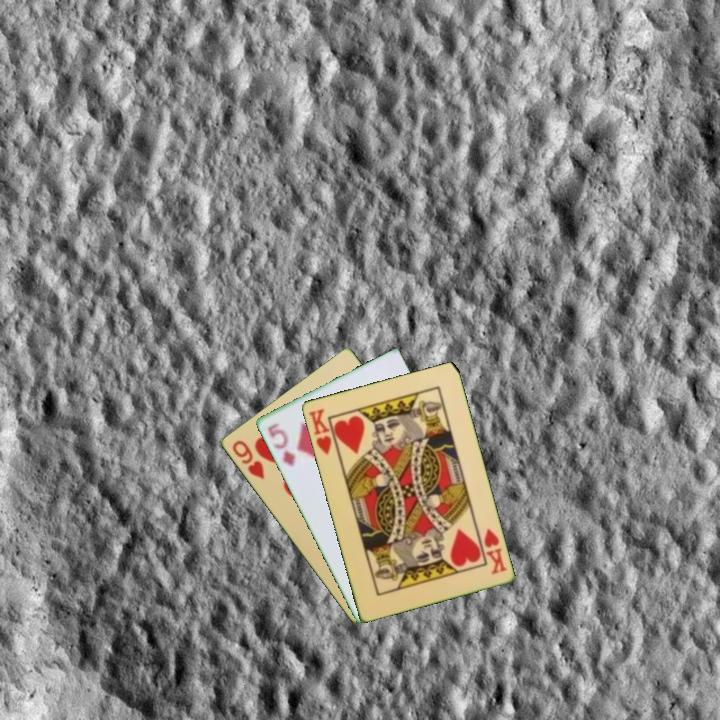5d: (264, 419, 299, 469)
9h: (228, 436, 267, 482)
Kh: (304, 405, 341, 457), (480, 525, 510, 577)
